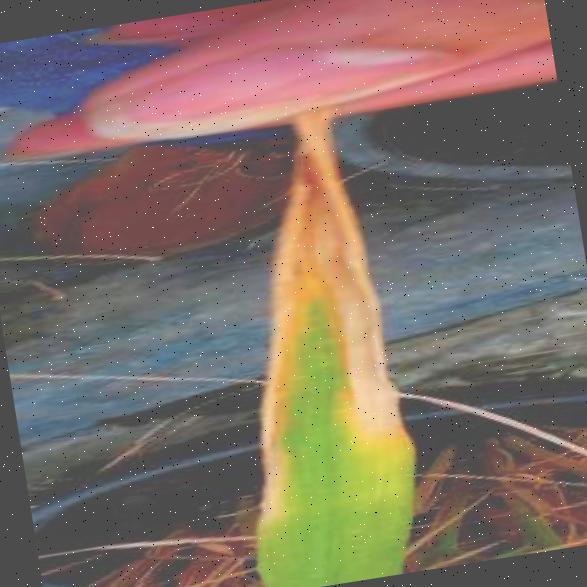Bacteria_Leaf_Blight: (216, 231, 428, 587)
